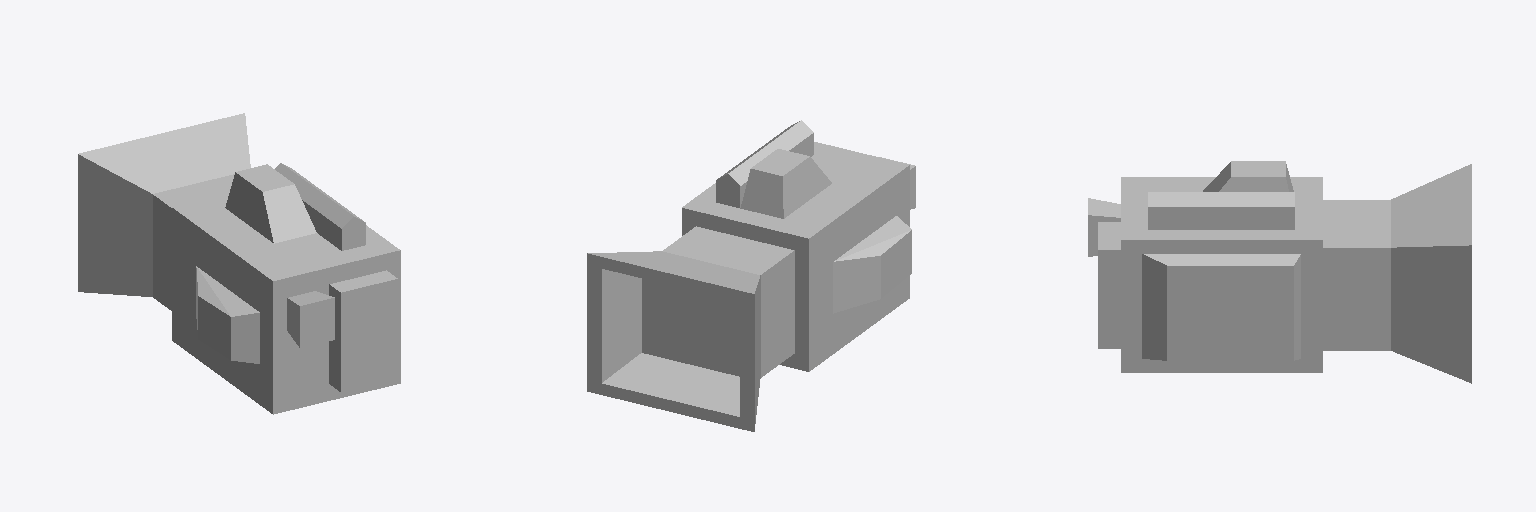
Rendered from Camera.obj.
The picture shows the model from 3 angles: view 1: azimuth 30°, elevation 25°; view 2: azimuth 150°, elevation 25°; view 3: azimuth 270°, elevation 25°; orthographic projection.
Visible parts, largest first — view 1: Cube; view 2: Cube; view 3: Cube.
Boxes of the visible parts, <box> form: Cube: <box>78,113,400,414</box>; Cube: <box>587,120,915,431</box>; Cube: <box>1088,161,1471,383</box>.
Bounding box in the file's own units: 0.3453 × 0.334 × 0.674.